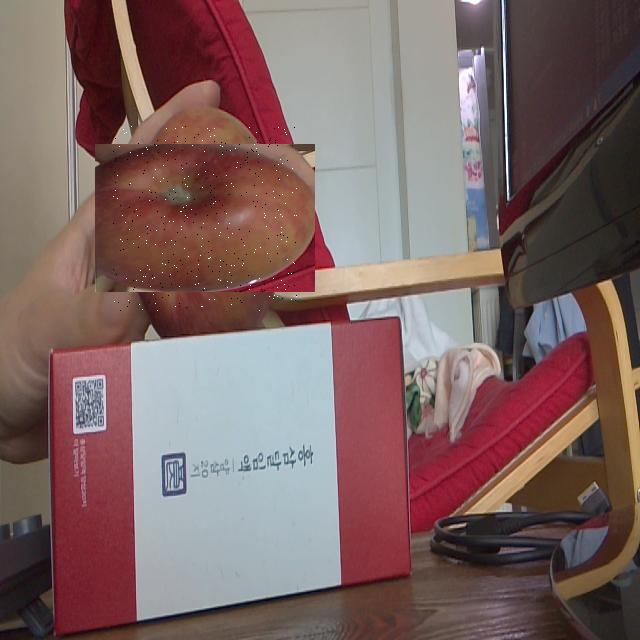apple: (113, 126, 297, 311)
